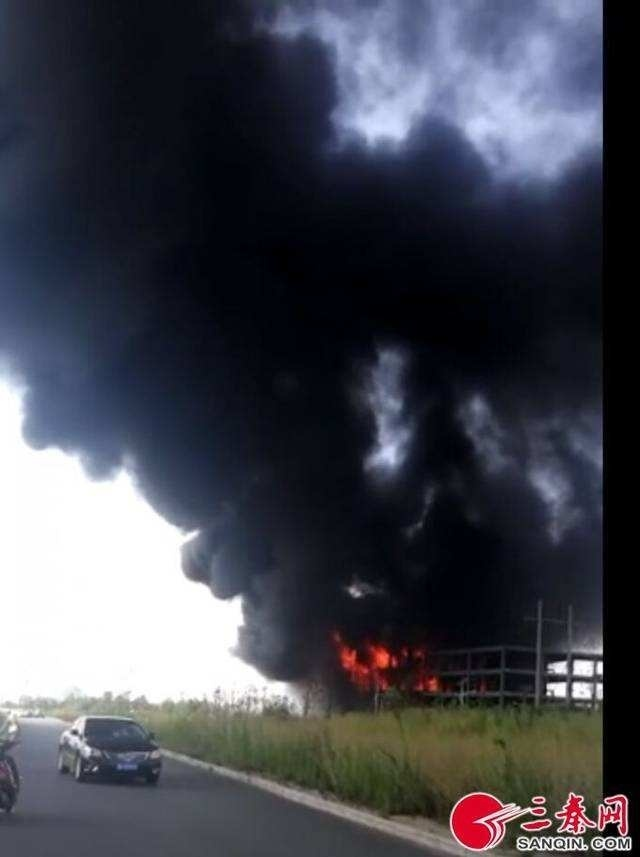fire: (331, 631, 443, 701)
